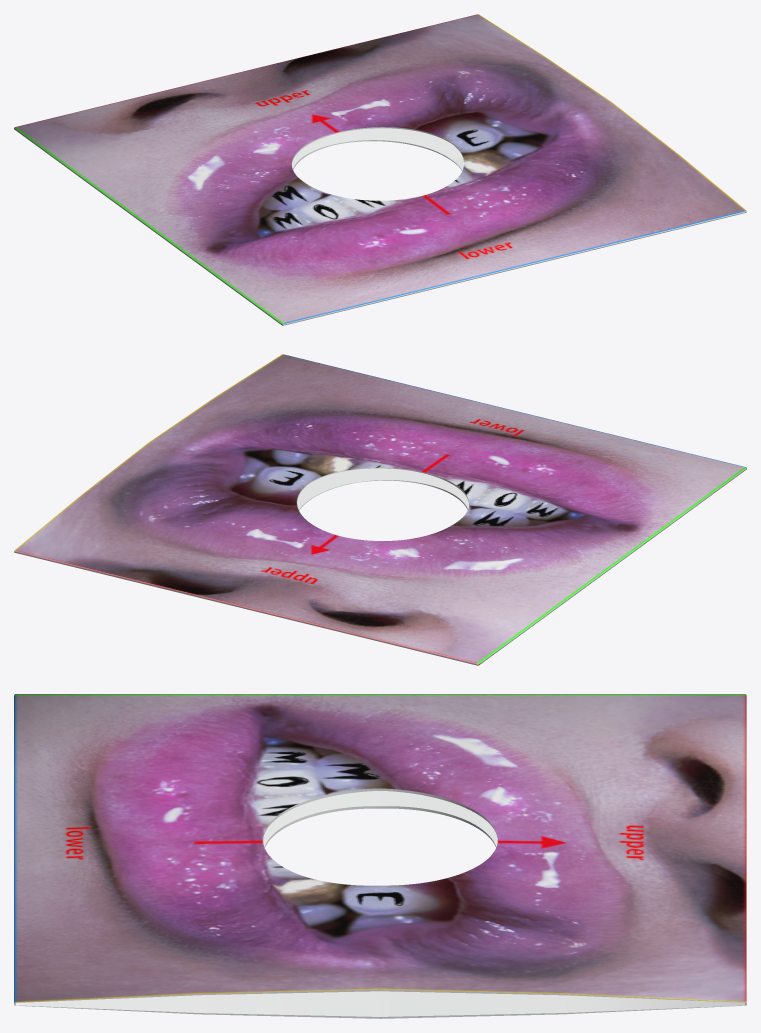
Rendered from sleeve_12_single_no_spine_holed.dae.
The picture shows the model from 3 angles, top to bottom: view 1: azimuth 30°, elevation 25°; view 2: azimuth 150°, elevation 25°; view 3: azimuth 270°, elevation 25°; orthographic projection. The views are drawn at different scales.
Parts seen in each view (by area): view 1: sleeve; view 2: sleeve; view 3: sleeve.
Boxes of the visible parts, <box> form: sleeve: <box>14,14,746,325</box>; sleeve: <box>14,354,746,665</box>; sleeve: <box>14,694,746,1018</box>.
Bounding box in the file's own units: 31.15 × 1.38 × 31.24.
Materials: 1 (1 with a texture image).
